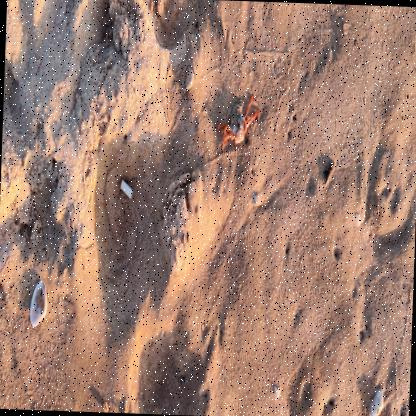Cigarette: (120, 180, 133, 199)
